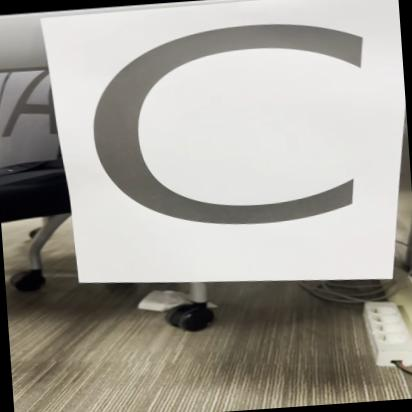seat: (21, 0, 412, 295)
